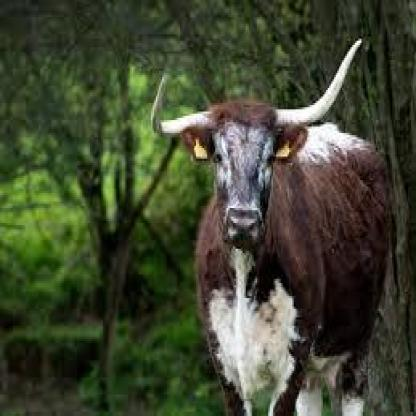cow: (181, 103, 392, 416)
